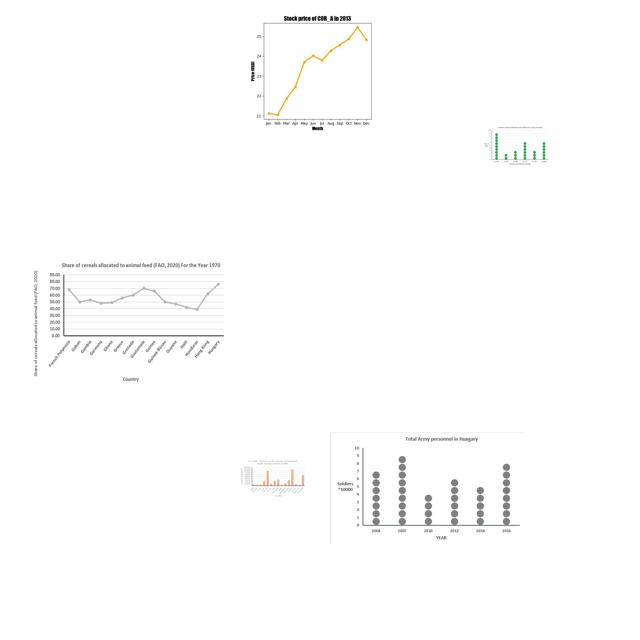Graph: (29, 259, 228, 388), (330, 432, 524, 545), (232, 8, 399, 133), (483, 125, 550, 167), (239, 459, 306, 498)
